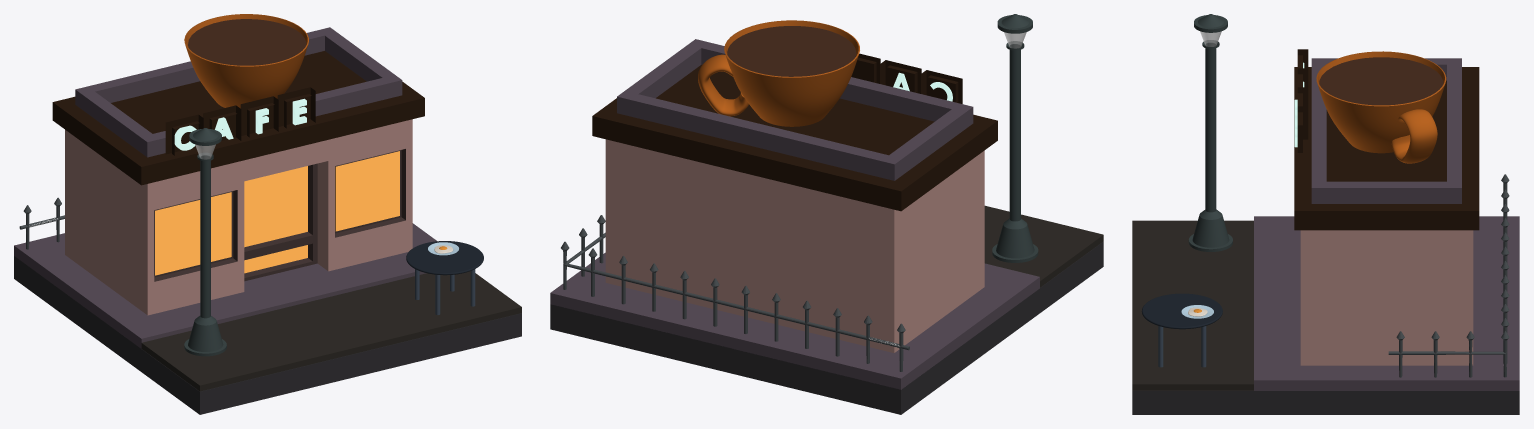
File: cafe.glb
3 renders of one model, left to right at view 1: azimuth 30°, elevation 25°; view 2: azimuth 150°, elevation 25°; view 3: azimuth 270°, elevation 25°, orthographic. The views are drawn at different scales.
Parts seen in each view (by area): view 1: 平面.022, 平面.004, 平面.003, 平面.023, 平面, 平面.024, 平面.026, 平面.030, 平面.025, 平面.015, 円柱, 平面.028 (+13 smaller); view 2: 平面.004, 平面.003, 平面.023, 平面, 平面.026, 平面.030, 平面.015, 円柱, 平面.006, 平面.022, 円, 下 (+5 smaller); view 3: 平面.004, 平面.023, 平面.022, 平面.003, 平面, 平面.026, 円柱, 平面.015, 平面.006, 円, 円.002, NURBSパス (+4 smaller).
Part boxes in pixels (x1=…): 平面.022: x1=141, y1=271, x2=521, y2=391; 平面.004: x1=65, y1=119, x2=412, y2=315; 平面.003: x1=52, y1=51, x2=424, y2=185; 平面.023: x1=14, y1=223, x2=436, y2=348; 平面: x1=14, y1=256, x2=521, y2=414; 平面.024: x1=155, y1=151, x2=399, y2=275; 平面.026: x1=75, y1=27, x2=402, y2=157; 平面.030: x1=65, y1=144, x2=147, y2=289; 平面.025: x1=244, y1=166, x2=307, y2=273; 平面.015: x1=184, y1=14, x2=308, y2=108; 円柱: x1=188, y1=19, x2=306, y2=65; 平面.028: x1=244, y1=163, x2=317, y2=281; 平面.004: x1=605, y1=139, x2=984, y2=352; 平面.003: x1=592, y1=64, x2=997, y2=211; 平面.023: x1=550, y1=252, x2=1039, y2=389; 平面: x1=550, y1=241, x2=1103, y2=414; 平面.026: x1=617, y1=39, x2=973, y2=180; 平面.030: x1=894, y1=167, x2=984, y2=325; 平面.015: x1=724, y1=20, x2=859, y2=126; 円柱: x1=727, y1=26, x2=856, y2=76; 平面.006: x1=561, y1=215, x2=909, y2=371; 平面.022: x1=984, y1=205, x2=1103, y2=287; 円: x1=1006, y1=41, x2=1024, y2=221; 下: x1=992, y1=218, x2=1038, y2=262; 平面.004: x1=1300, y1=230, x2=1473, y2=365; 平面.023: x1=1254, y1=216, x2=1519, y2=390; 平面.022: x1=1132, y1=220, x2=1253, y2=390; 平面.003: x1=1294, y1=67, x2=1479, y2=230; 平面: x1=1132, y1=390, x2=1519, y2=414; 平面.026: x1=1311, y1=58, x2=1461, y2=203; 円柱: x1=1319, y1=57, x2=1443, y2=105; 平面.015: x1=1316, y1=51, x2=1446, y2=153; 平面.006: x1=1388, y1=174, x2=1509, y2=377; 円: x1=1202, y1=40, x2=1219, y2=212; 円.002: x1=1141, y1=293, x2=1222, y2=329; NURBSパス: x1=1391, y1=109, x2=1437, y2=163.
Bounding box in the file's own units: 8.01 × 5.89 × 8.
